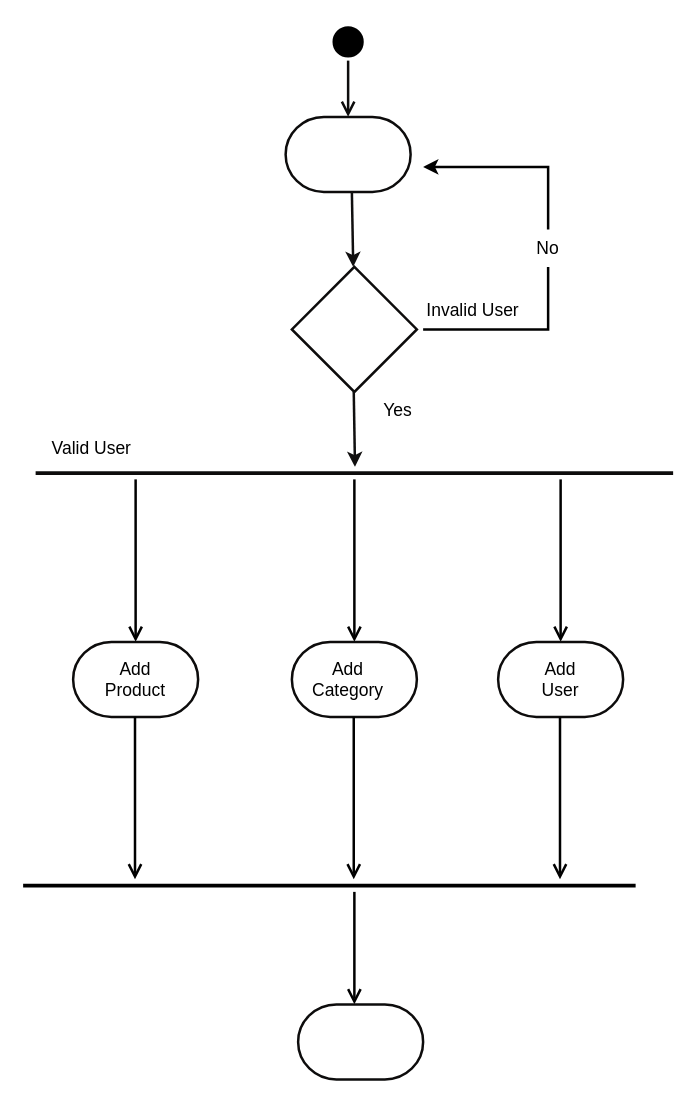
Image size: 696x1103. Some labels were removed from this diagram. The shapes that lost their labels are listed below. From the top down, each one's centre as x and y in pixels, then its label:
the point at 347,153: Login
the point at 360,1041: Logout
